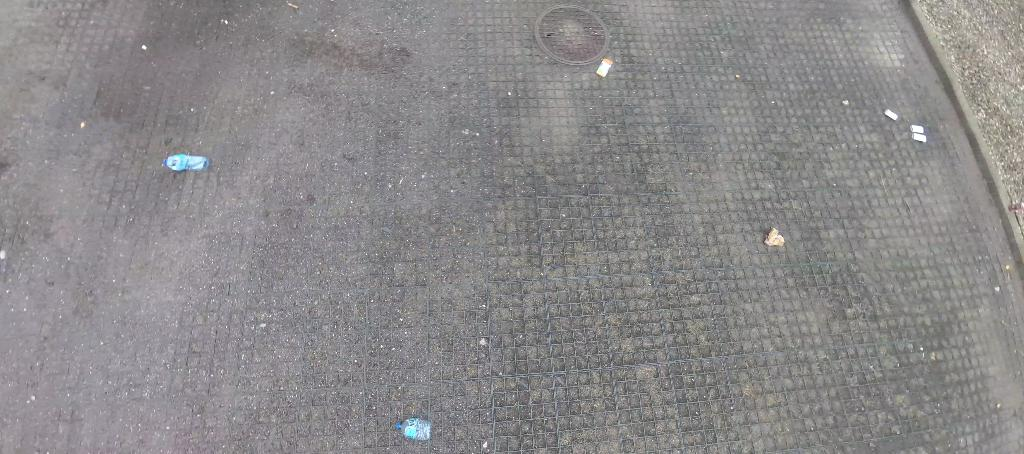garbage: (395, 415, 436, 442), (161, 153, 207, 174)
